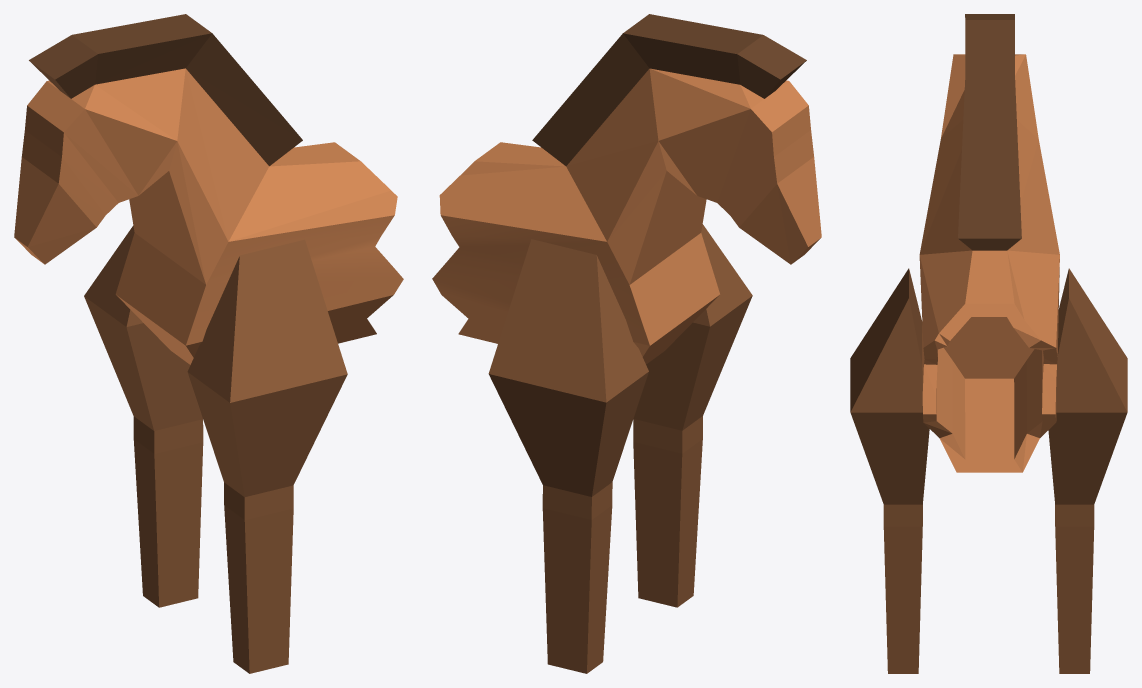
File: pinata_half_front.fbx
3 renders of one model, left to right at view 1: azimuth 30°, elevation 25°; view 2: azimuth 150°, elevation 25°; view 3: azimuth 270°, elevation 25°, orthographic. The views are drawn at different scales.
Parts seen in each view (by area): view 1: pinata_half_front; view 2: pinata_half_front; view 3: pinata_half_front.
Part boxes in pixels (x1,y1,x2,y2): pinata_half_front: (14, 14, 403, 673); pinata_half_front: (432, 14, 821, 673); pinata_half_front: (850, 14, 1127, 673).
Bounding box in the file's own units: 56.88 × 96.34 × 41.37.
Materials: 1 (1 with a texture image).
